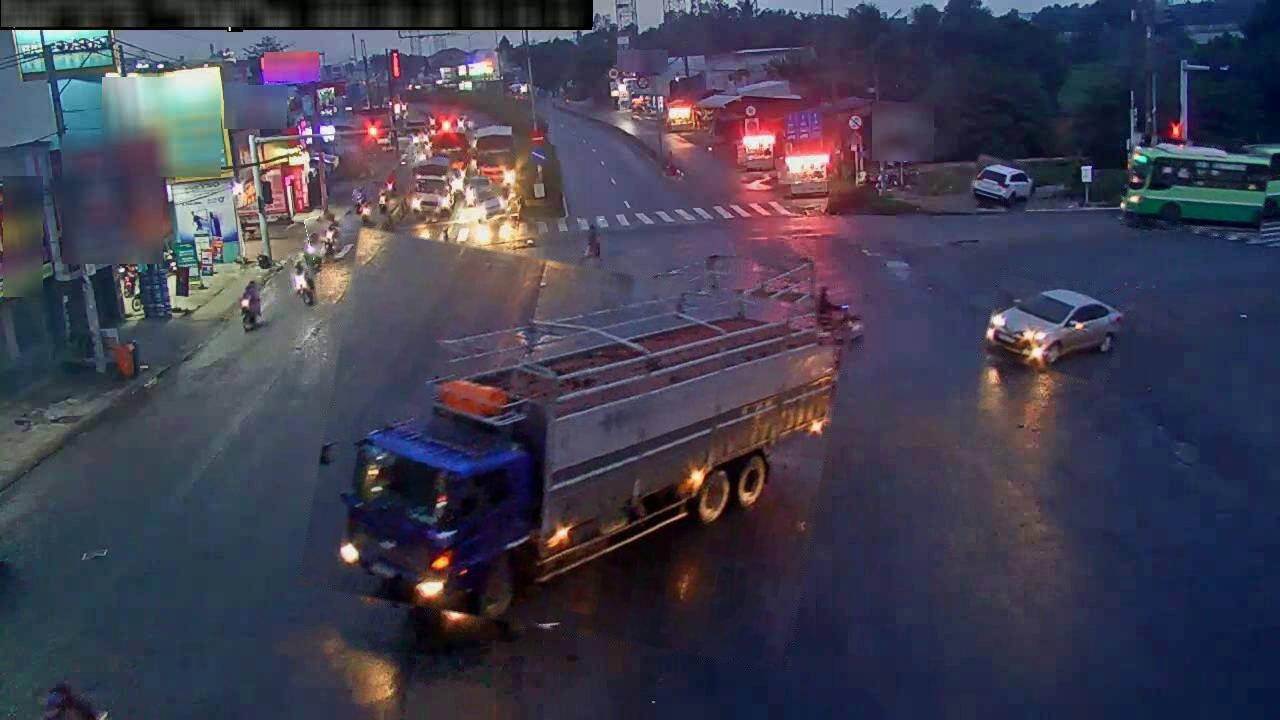Bus: (1121, 144, 1279, 228), (470, 125, 514, 185)
Car: (985, 289, 1122, 365), (971, 164, 1033, 206), (410, 175, 453, 219), (476, 183, 506, 221), (463, 177, 495, 205)
Motorcyclist: (815, 286, 863, 342), (292, 256, 315, 306), (240, 280, 262, 331), (304, 218, 327, 260), (582, 223, 601, 266), (321, 217, 341, 257), (352, 187, 371, 224), (371, 190, 389, 222)
Traffic light: (389, 50, 400, 78)
Truck: (339, 255, 860, 620)
